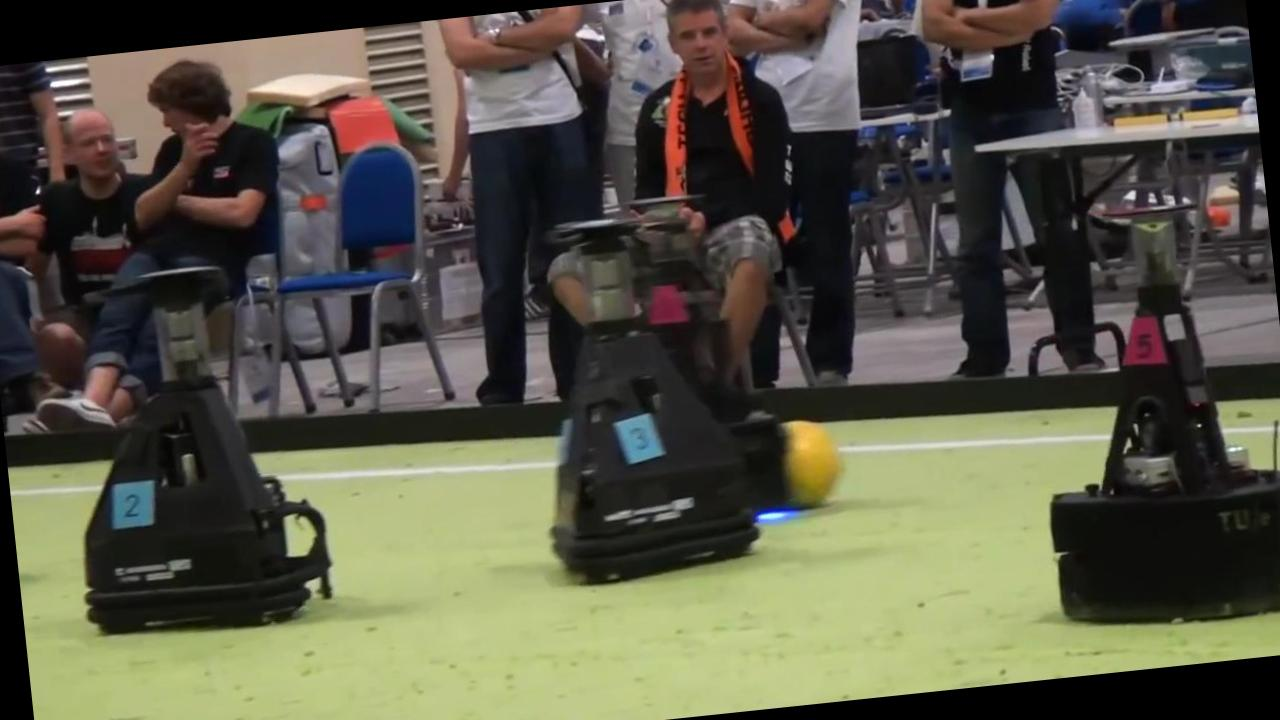ball: (783, 422, 838, 507)
robot: (1050, 219, 1280, 622), (84, 266, 333, 632), (552, 220, 759, 582), (631, 204, 793, 511)
